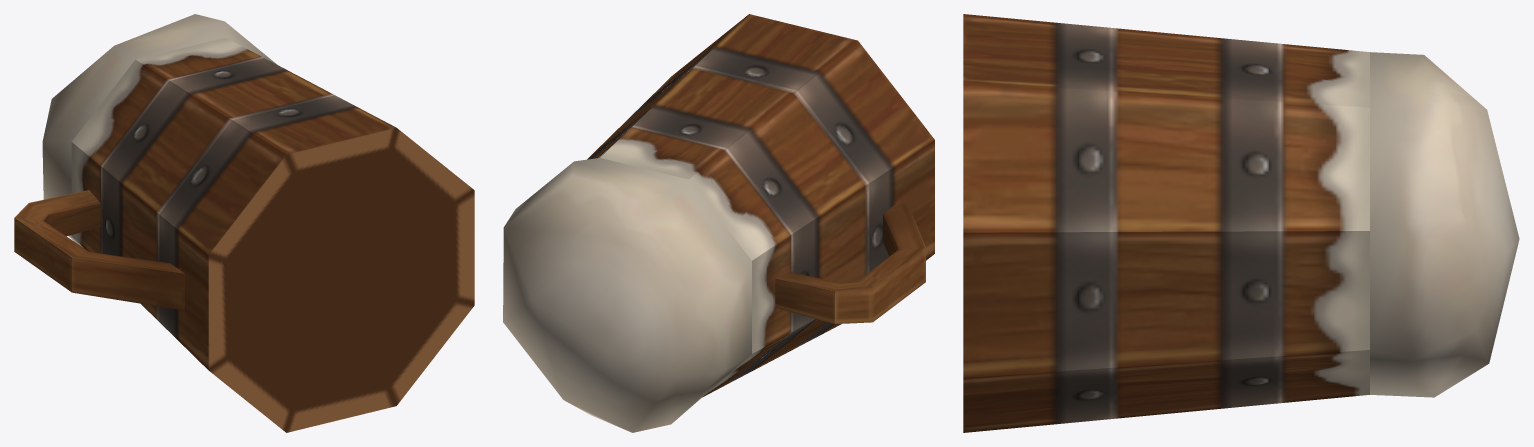
The model's file is Food_cup3.fbx.
3 renders of one model, left to right at view 1: azimuth 30°, elevation 25°; view 2: azimuth 150°, elevation 25°; view 3: azimuth 270°, elevation 25°, orthographic. The views are drawn at different scales.
Parts seen in each view (by area): view 1: Food_cup3; view 2: Food_cup3; view 3: Food_cup3.
Part boxes in pixels (left/top/right/bottom): Food_cup3: left=14, top=14, right=474, bottom=432; Food_cup3: left=503, top=14, right=934, bottom=432; Food_cup3: left=963, top=14, right=1519, bottom=432.
Size of the model in its own units: 0.2239 by 0.1796 by 0.2578.
